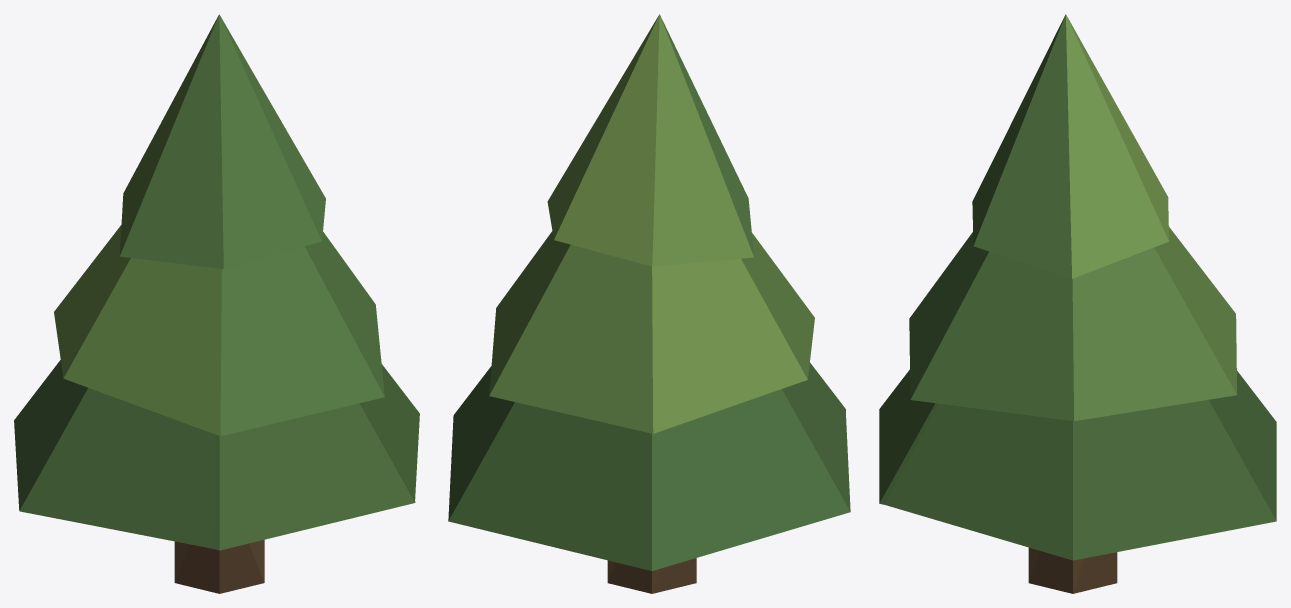
File: Prop_Tree_Pine_3.glb
3 views of the same model, side by side, from view 1: azimuth 30°, elevation 25°; view 2: azimuth 150°, elevation 25°; view 3: azimuth 270°, elevation 25° (orthographic).
Visible parts, largest first — view 1: object3, object4, object1, object2; view 2: object3, object4, object1, object2; view 3: object3, object4, object1, object2.
Boxes of the visible parts, box(x1,y1,x2,y2) form: object3: box(14, 360, 419, 550); object4: box(54, 225, 384, 436); object1: box(119, 14, 325, 268); object2: box(174, 539, 264, 593); object3: box(448, 363, 850, 570); object4: box(489, 231, 814, 433); object1: box(547, 14, 753, 266); object2: box(607, 558, 696, 593); object3: box(879, 369, 1276, 560); object4: box(909, 227, 1237, 421); object1: box(972, 14, 1169, 278); object2: box(1028, 547, 1117, 593).
Size of the model in its own units: 2.49 by 3.33 by 2.16.
